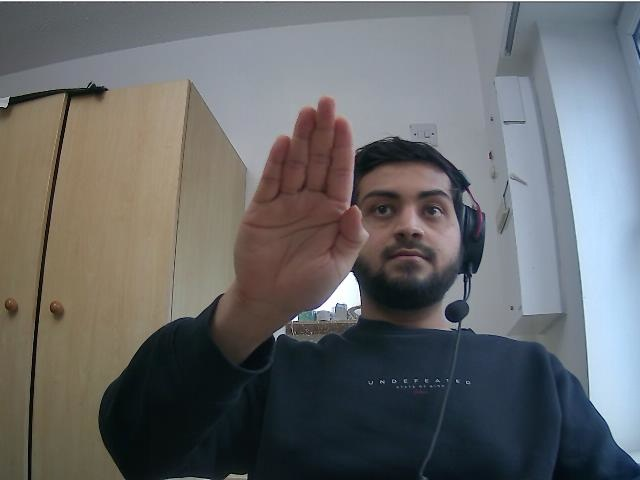up: (231, 92, 371, 314)
